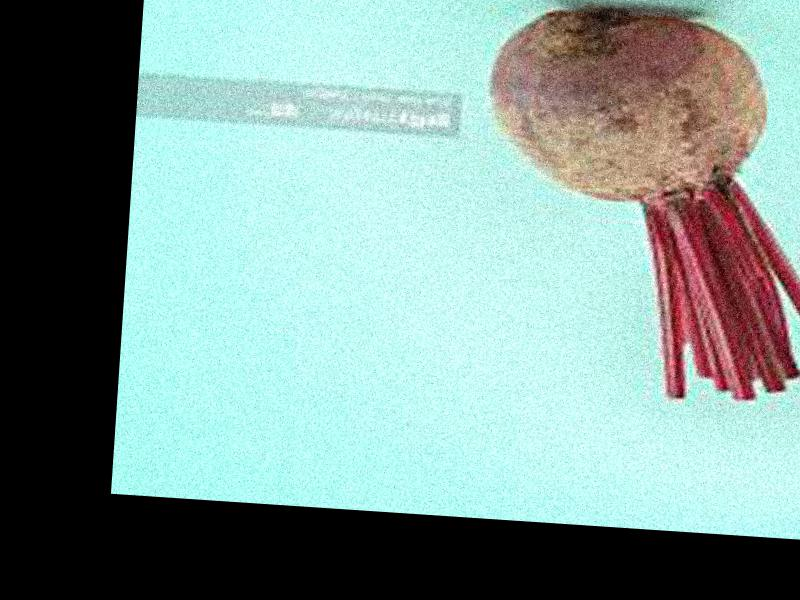Beet: (470, 0, 800, 404)
